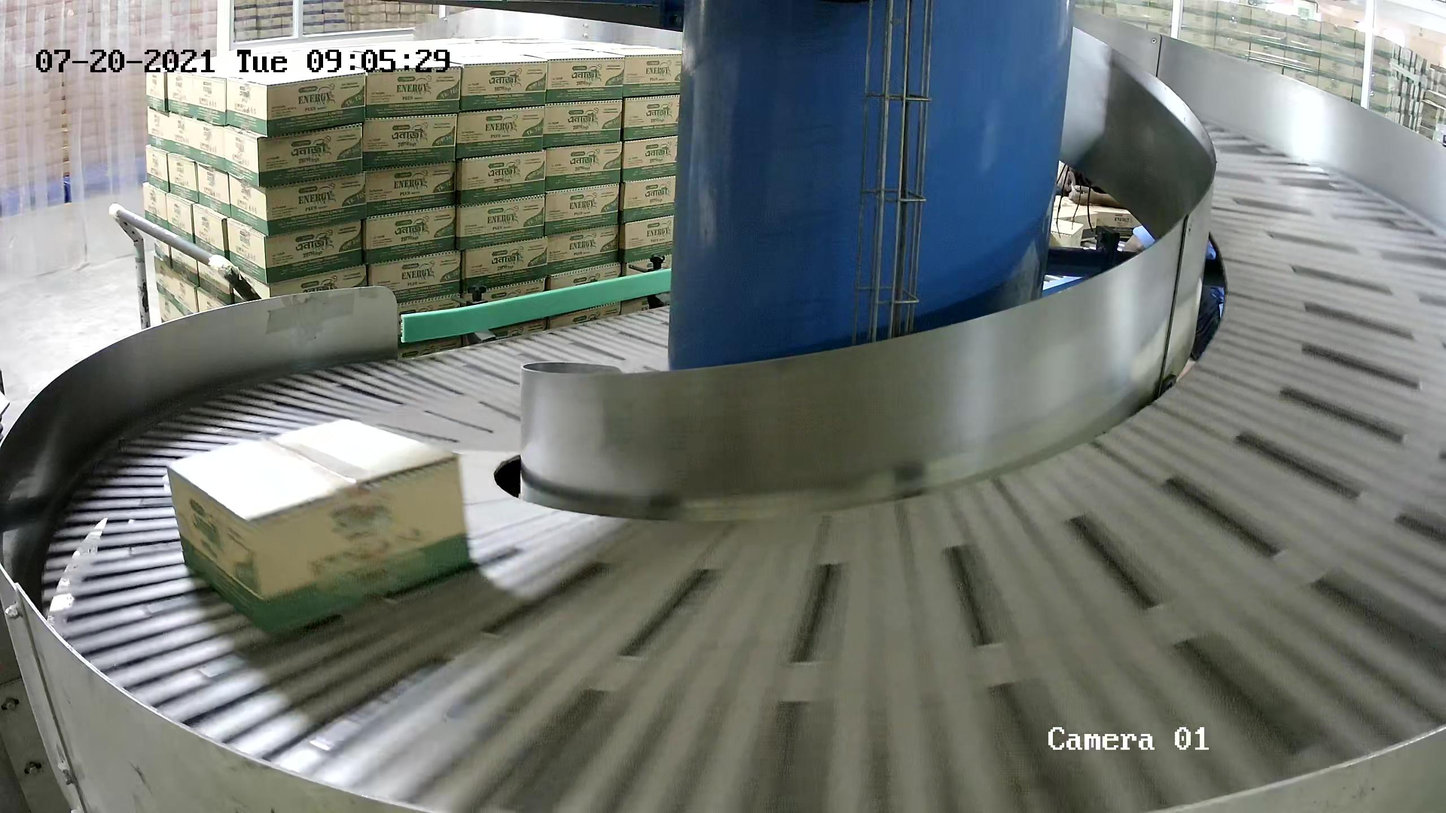Box: (166, 417, 472, 635)
